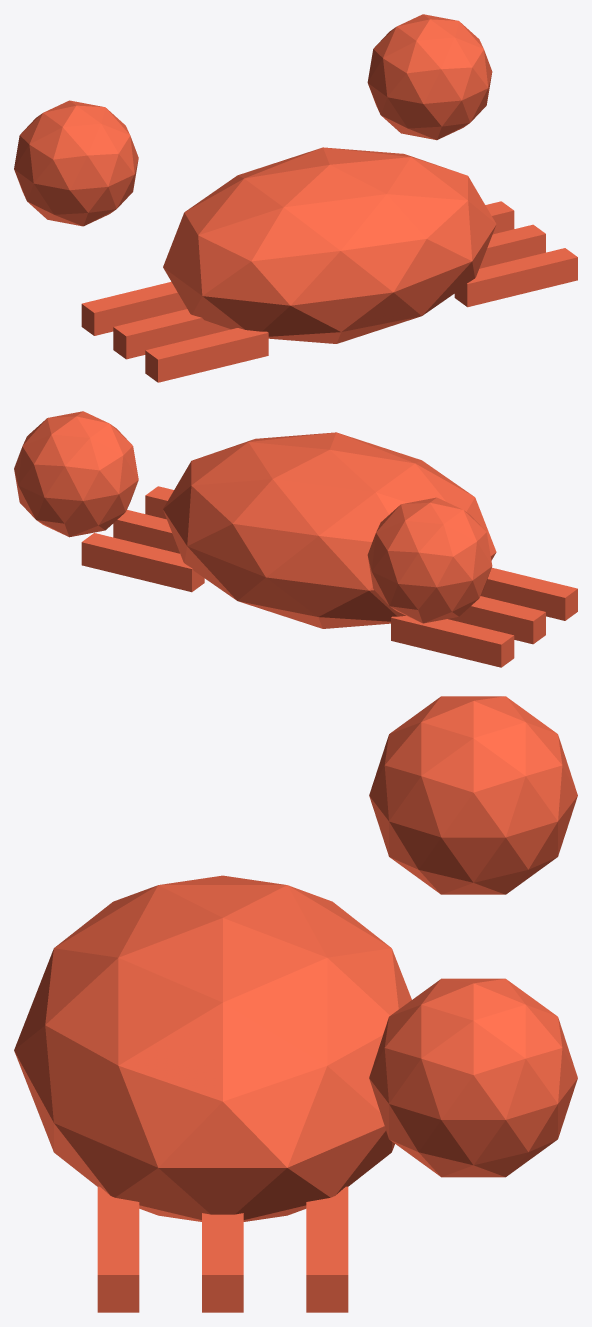
Rendered from Surfing_Crab.fbx.
3 views of the same model, one above another, from view 1: azimuth 30°, elevation 25°; view 2: azimuth 150°, elevation 25°; view 3: azimuth 270°, elevation 25° (orthographic). The views are drawn at different scales.
Parts seen in each view (by area): view 1: Crab; view 2: Crab; view 3: Crab.
Boxes of the visible parts, bbox=[...] form: Crab: bbox=[14, 14, 577, 382]; Crab: bbox=[14, 411, 577, 667]; Crab: bbox=[14, 696, 577, 1312].
Size of the model in its own units: 0.4151 by 0.18 by 0.27.
